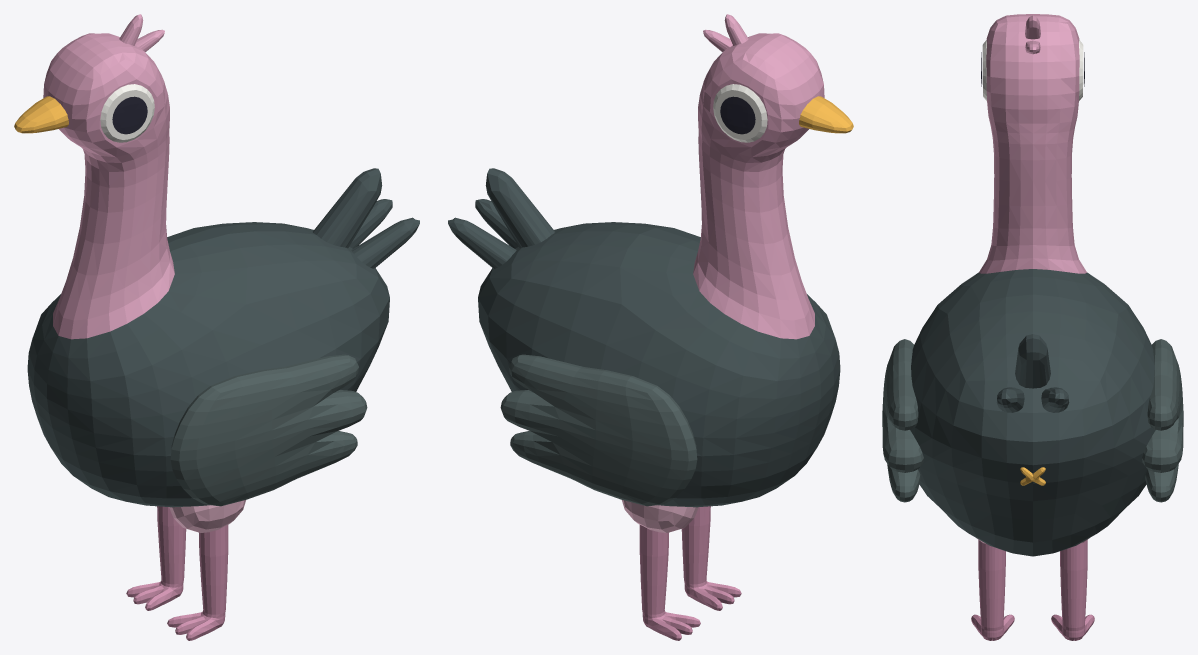
The model's file is Ostrich_LOD0.fbx.
The picture shows the model from 3 angles, left to right: view 1: azimuth 30°, elevation 25°; view 2: azimuth 150°, elevation 25°; view 3: azimuth 270°, elevation 25°; orthographic projection. The views are drawn at different scales.
Parts seen in each view (by area): view 1: Ostrich_LOD0; view 2: Ostrich_LOD0; view 3: Ostrich_LOD0.
Part boxes in pixels (left/top/right/bottom): Ostrich_LOD0: left=14, top=14, right=419, bottom=640; Ostrich_LOD0: left=448, top=14, right=853, bottom=640; Ostrich_LOD0: left=882, top=14, right=1183, bottom=640.
Size of the model in its own units: 231 by 346 by 158.
Materials: 1 (1 with a texture image).
